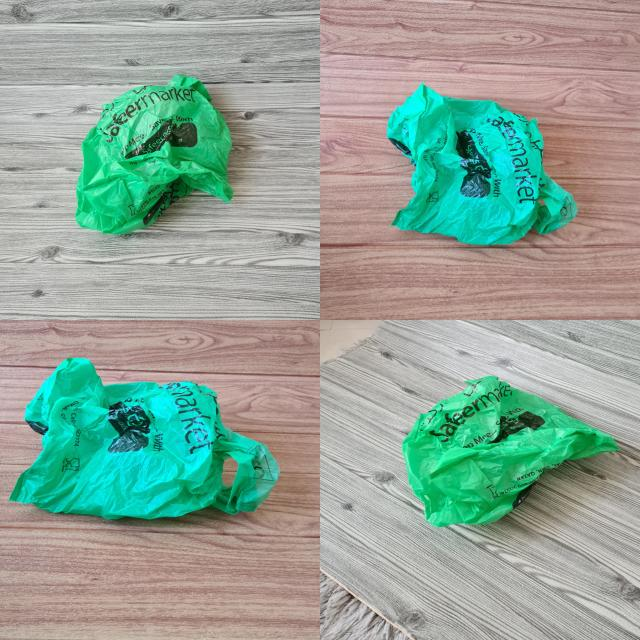Single-layer Plastic: (10, 358, 279, 519), (402, 376, 619, 526), (388, 84, 578, 245), (76, 75, 232, 234)
